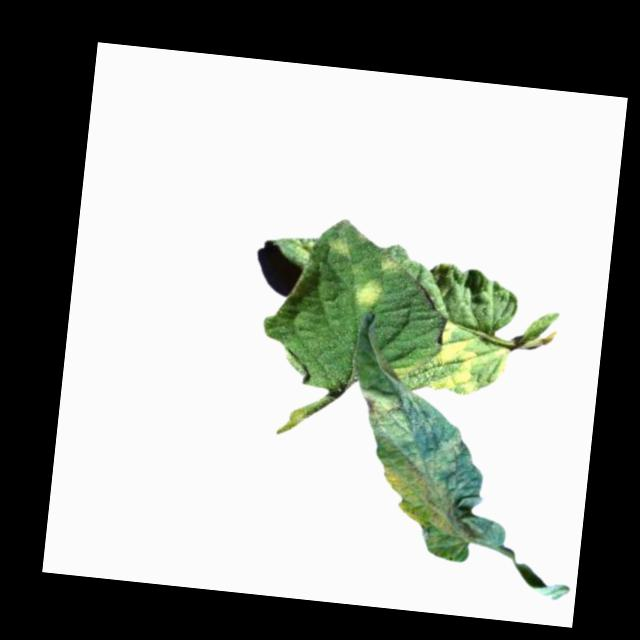Leaf_Mold: (376, 459, 463, 534), (428, 319, 484, 395), (355, 386, 421, 436), (354, 275, 386, 312), (327, 233, 352, 257), (379, 252, 404, 275)
